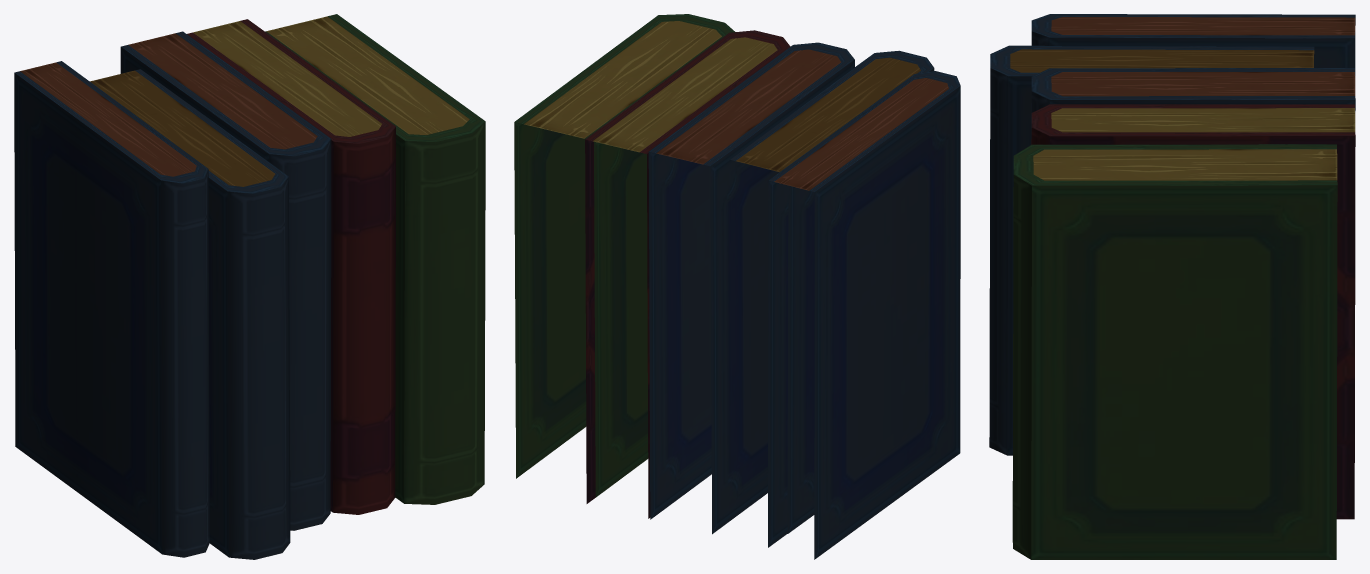
File: BookGroup_Small_3.gltf
The picture shows the model from 3 angles, left to right: view 1: azimuth 30°, elevation 25°; view 2: azimuth 150°, elevation 25°; view 3: azimuth 270°, elevation 25°; orthographic projection. The views are drawn at different scales.
Visible parts, largest first — view 1: BookGroup_Small_3; view 2: BookGroup_Small_3; view 3: BookGroup_Small_3.
Boxes of the visible parts, x1,y1,x2,y2 form: BookGroup_Small_3: [14, 14, 485, 559]; BookGroup_Small_3: [514, 14, 960, 559]; BookGroup_Small_3: [989, 14, 1355, 559].
Size of the model in its own units: 0.2448 by 0.2774 by 0.2372.
1 material, 1 textured.
